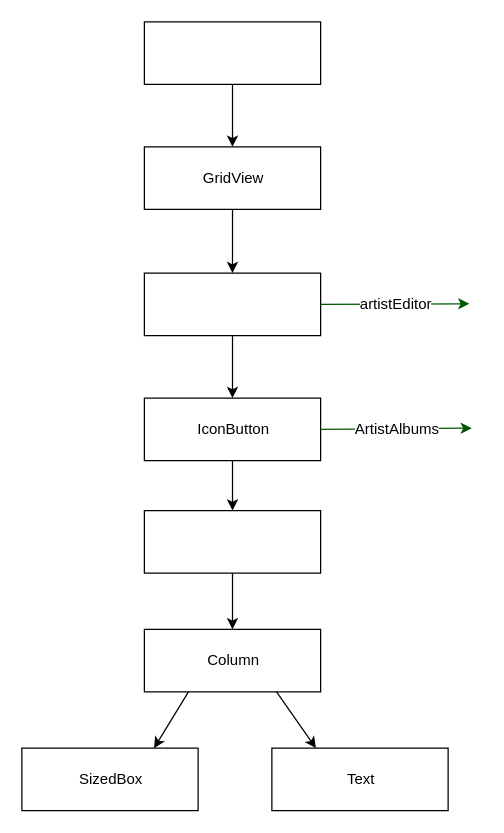
The diagram is 504 pixels wide and 833 high, and some of its shapes have lost their labels. Each missing label, with the box of its shape:
Card: (143, 509, 321, 573)
GestureDetector: (143, 272, 321, 336)
OrientationBuilder: (143, 21, 321, 84)
